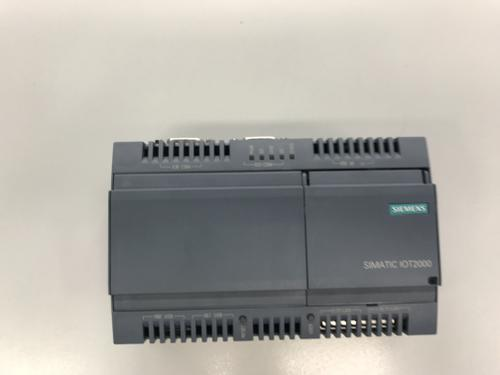device: (107, 136, 441, 344)
